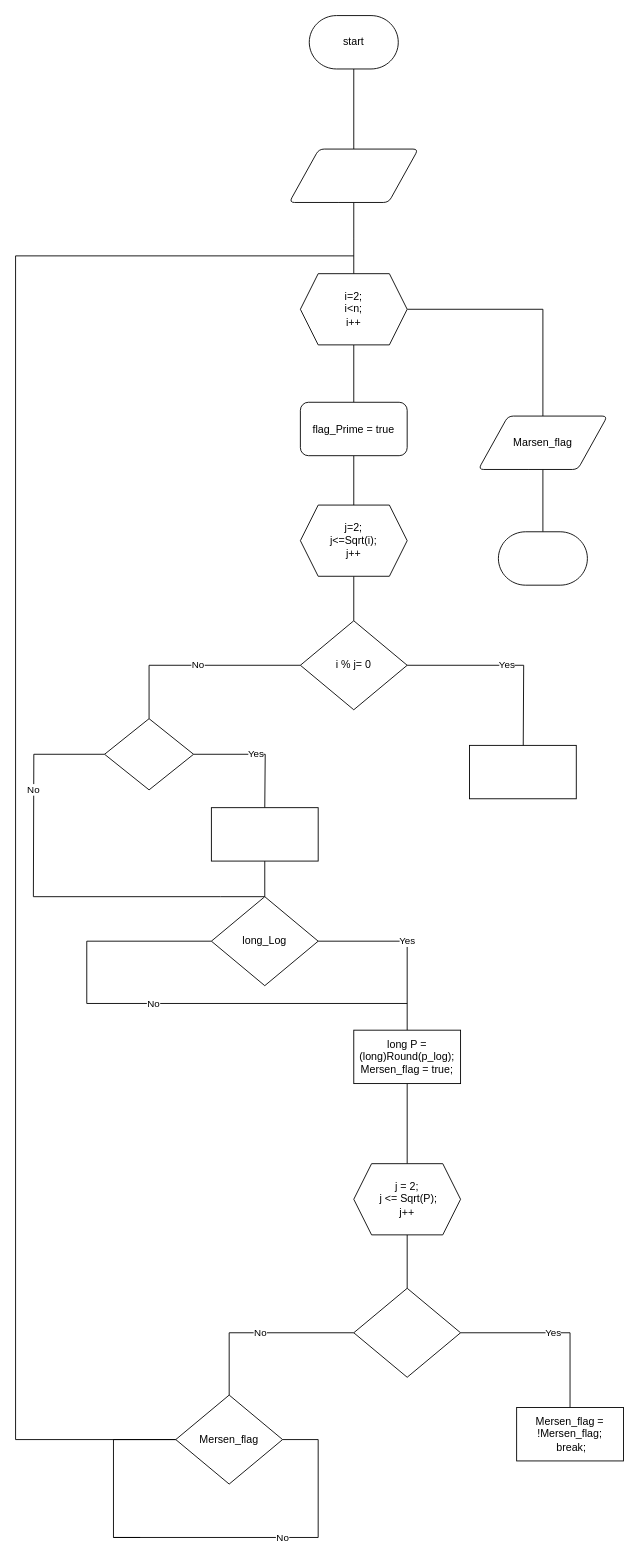
This 639x1558 diagram has some shape labels left out. The shapes that lost their labels are listed below. From the top down, each one's centre as x and y in pixels, then its label:
At point 353,175: "nєN, Marsen_flag i,j".
At point 542,558: "end".
At point 149,754: "flag_Prime".
At point 522,771: "flag_Prime = !flag_Prime; break;".
At point 264,834: "p_log = Log(i + 1, 2); l long_Log = Abs(Round(p_log) - p_log) < 1.0E-8;".
At point 407,1332: "P % j == 0".
